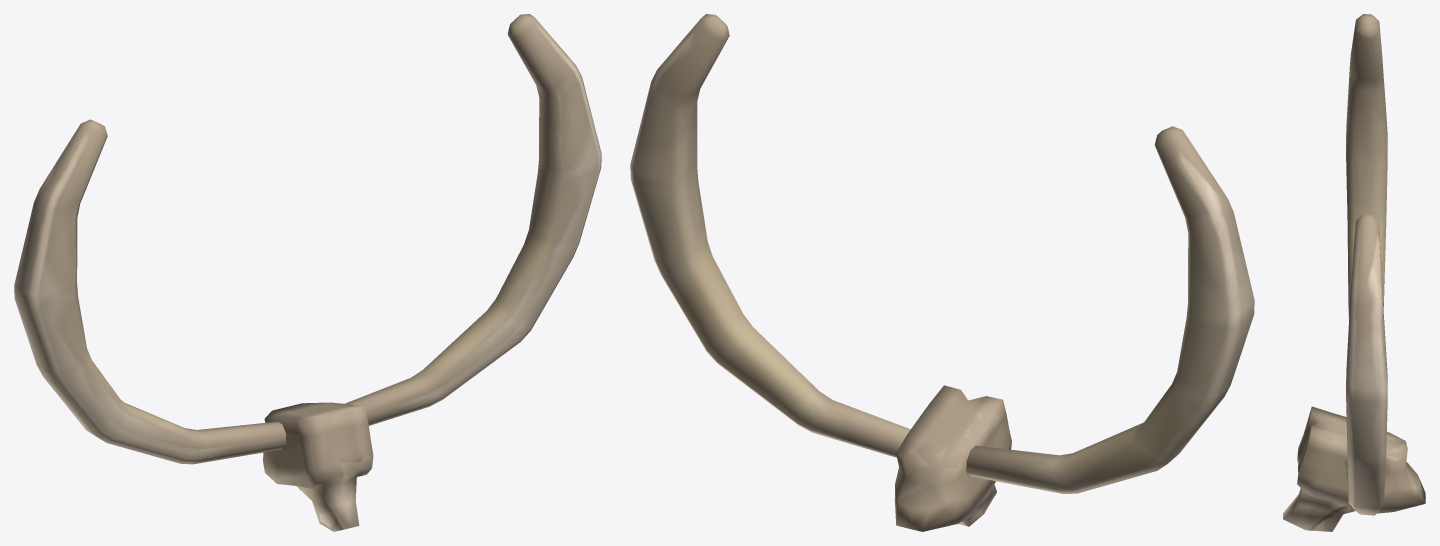
File: SM_WhalefallRibs_01.fbx
The picture shows the model from 3 angles, left to right: view 1: azimuth 30°, elevation 25°; view 2: azimuth 150°, elevation 25°; view 3: azimuth 270°, elevation 25°; orthographic projection. The views are drawn at different scales.
Visible parts, largest first — view 1: Whalefall.026; view 2: Whalefall.026; view 3: Whalefall.026.
Boxes of the visible parts, bbox=[...] form: Whalefall.026: bbox=[14, 14, 601, 531]; Whalefall.026: bbox=[630, 14, 1254, 531]; Whalefall.026: bbox=[1283, 14, 1425, 531].
Size of the model in its own units: 640 by 469 by 147.
